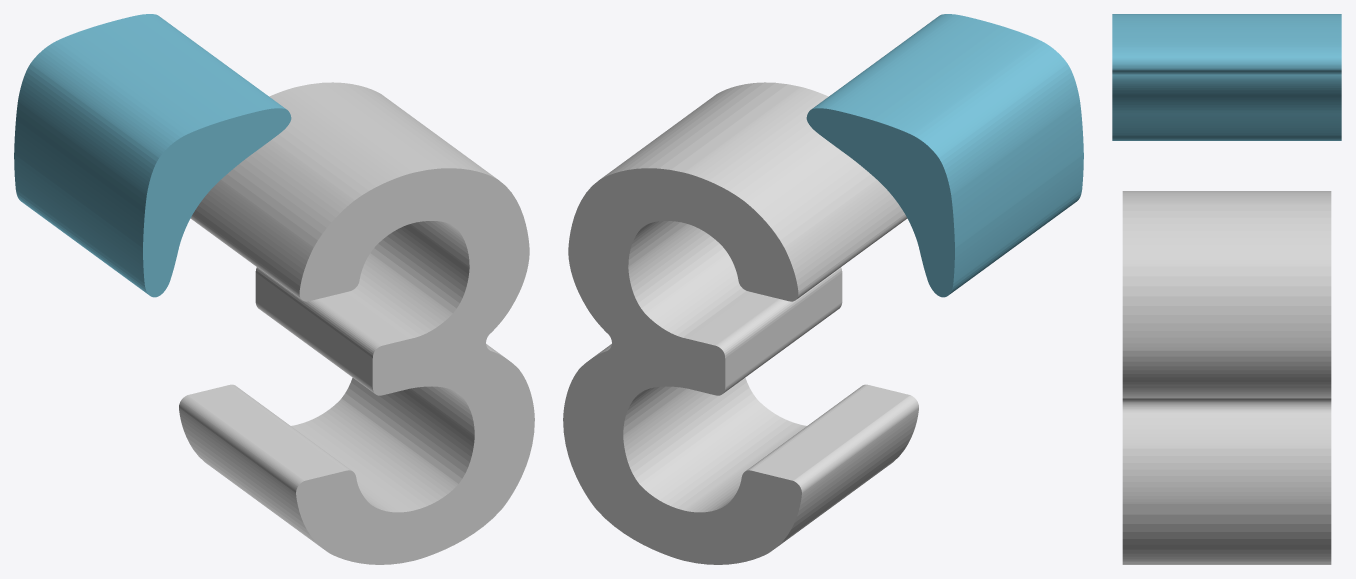
The picture shows the model from 3 angles, left to right: view 1: azimuth 30°, elevation 25°; view 2: azimuth 150°, elevation 25°; view 3: azimuth 270°, elevation 25°; orthographic projection. The views are drawn at different scales.
Parts seen in each view (by area): view 1: U+FE830_layer00_obj00, U+FE830_layer01_obj00; view 2: U+FE830_layer00_obj00, U+FE830_layer01_obj00; view 3: U+FE830_layer00_obj00, U+FE830_layer01_obj00.
Part boxes in pixels (x1=…): U+FE830_layer00_obj00: x1=179, y1=82, x2=534, y2=564; U+FE830_layer01_obj00: x1=14, y1=14, x2=291, y2=297; U+FE830_layer00_obj00: x1=563, y1=82, x2=918, y2=564; U+FE830_layer01_obj00: x1=806, y1=14, x2=1083, y2=297; U+FE830_layer00_obj00: x1=1122, y1=191, x2=1331, y2=564; U+FE830_layer01_obj00: x1=1112, y1=14, x2=1341, y2=140.
Size of the model in its own units: 0.1961 by 0.2323 by 0.11.
